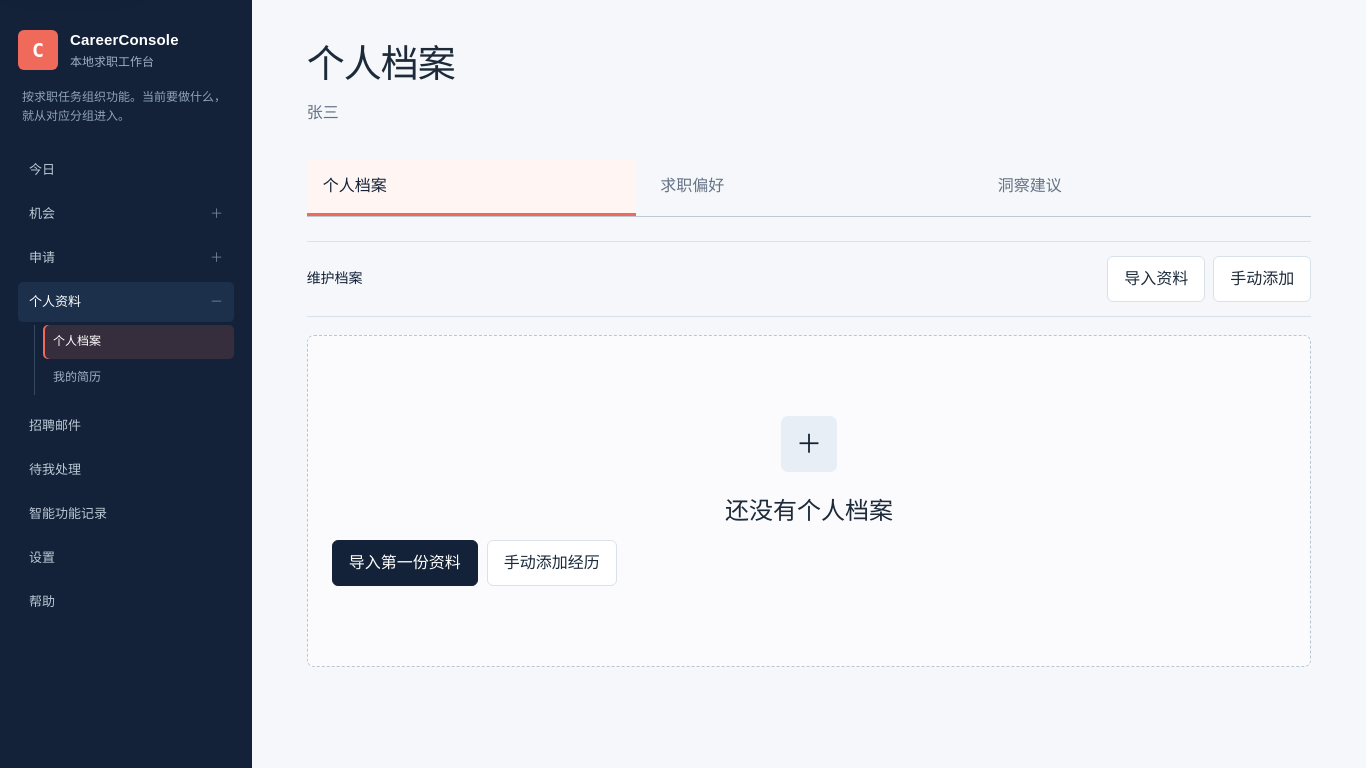
Scenario: Career app shell › filters current insights by business category
Click the button "洞察建议": click(1030, 185) [982,160,1311,216]
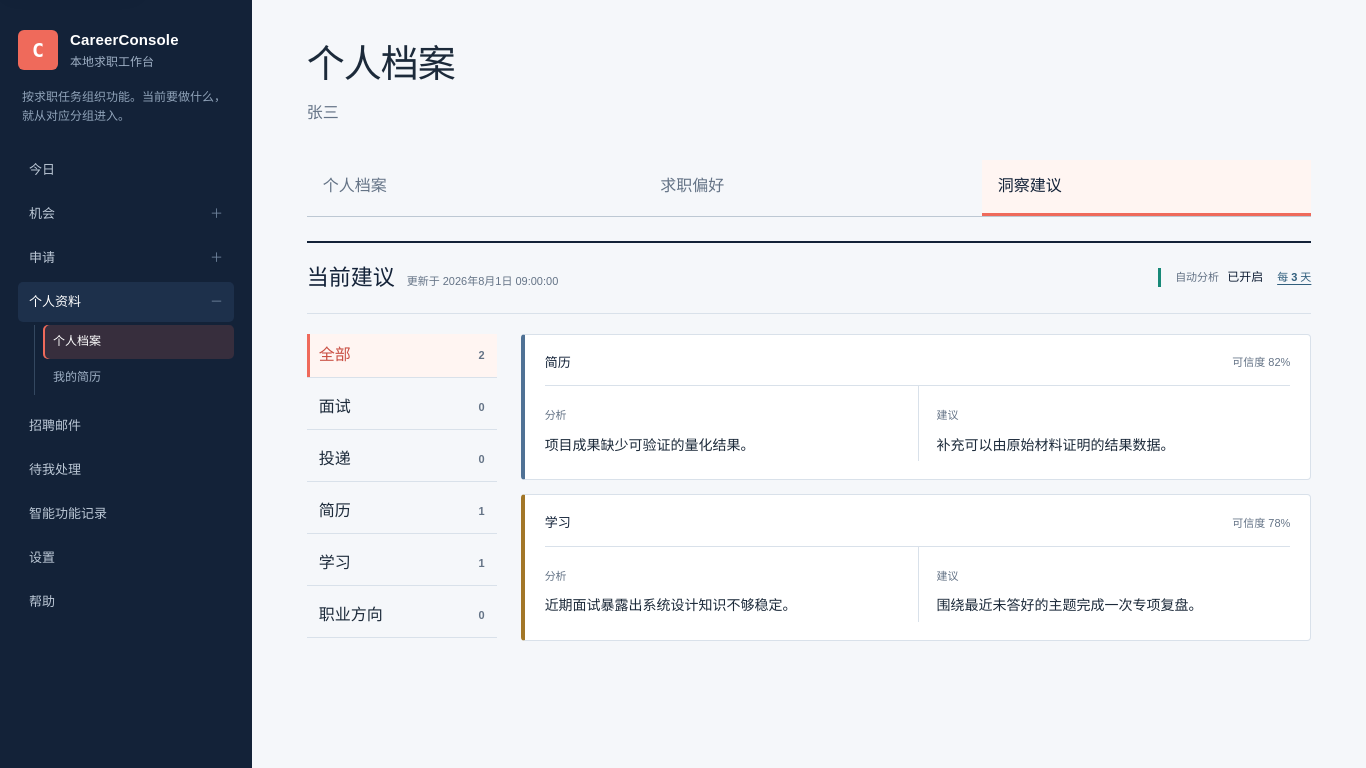
Expected: the text "项目成果缺少可验证的量化结果。" is shown, [545,437,755,453]
Expected: the text "近期面试暴露出系统设计知识不够稳定。" is shown, [545,597,797,613]
Click the button "简历 1": click(402, 512) [307,490,497,534]
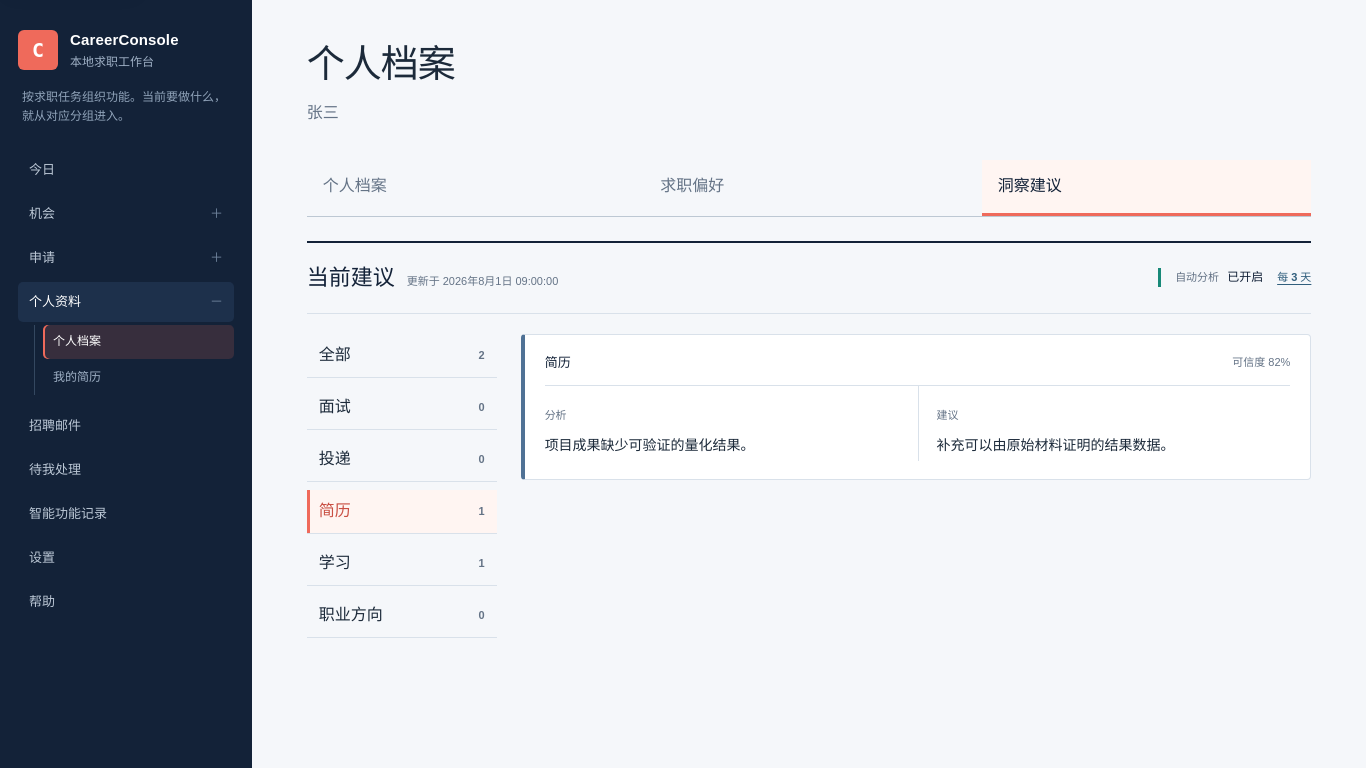
Expected: the text "项目成果缺少可验证的量化结果。" is shown, [545,437,755,453]
Expected: the text "近期面试暴露出系统设计知识不够稳定。" is gone
Click the button "学习 1": click(402, 564) [307,542,497,586]
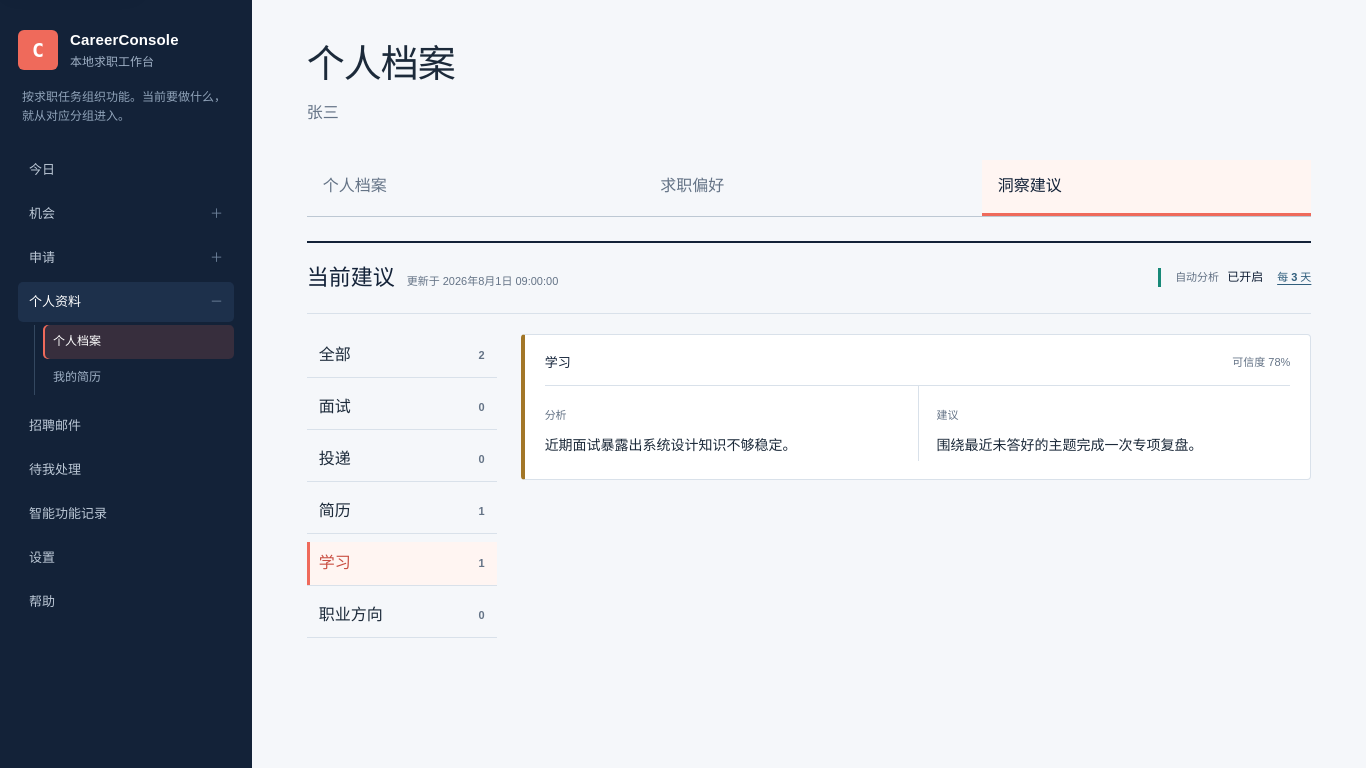
Expected: the text "项目成果缺少可验证的量化结果。" is gone
Expected: the text "近期面试暴露出系统设计知识不够稳定。" is shown, [545,437,797,453]
